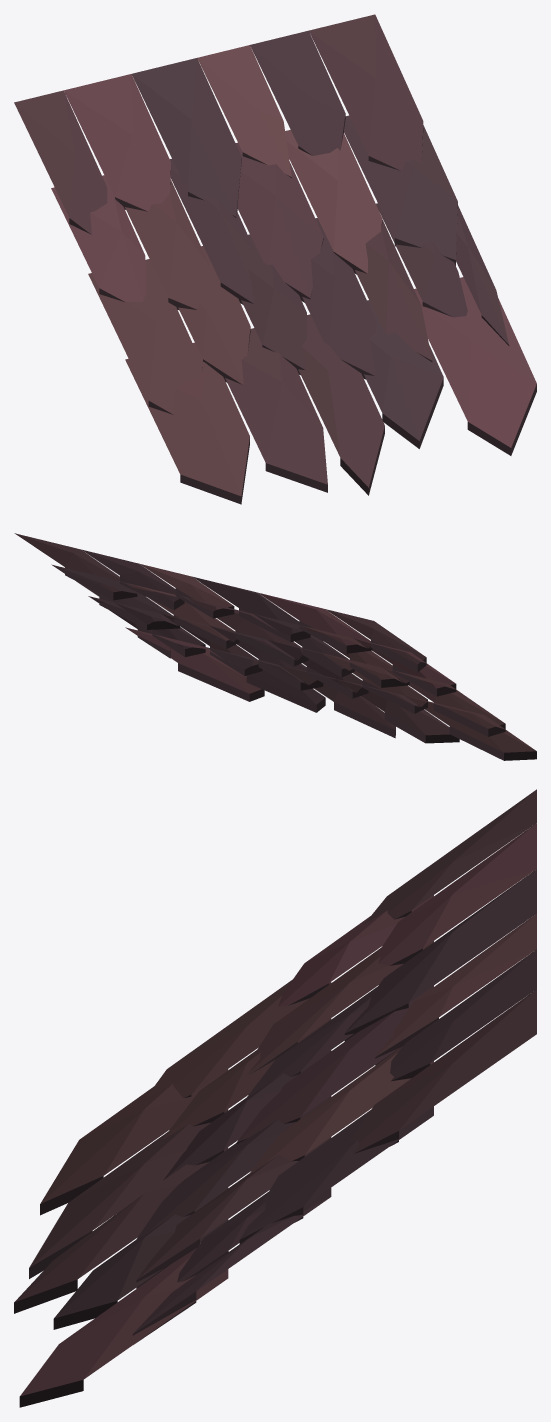
File: cedar_course_1.glb
3 renders of one model, top to bottom at view 1: azimuth 30°, elevation 25°; view 2: azimuth 150°, elevation 25°; view 3: azimuth 270°, elevation 25°, orthographic. The views are drawn at different scales.
Visible parts, largest first — view 1: cedar_course_1; view 2: cedar_course_1; view 3: cedar_course_1.
Boxes of the visible parts, bbox=[...] form: cedar_course_1: bbox=[14, 14, 536, 504]; cedar_course_1: bbox=[14, 533, 536, 760]; cedar_course_1: bbox=[14, 789, 536, 1407].
Size of the model in its own units: 2 by 1.57 by 1.8.
